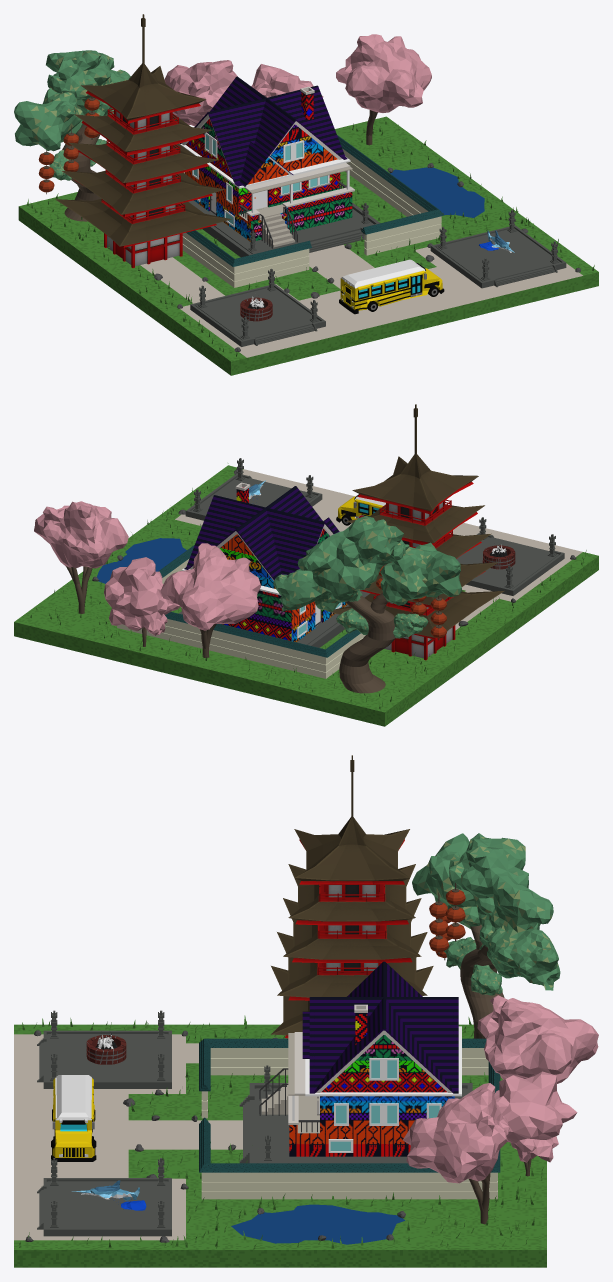
The picture shows the model from 3 angles, top to bottom: view 1: azimuth 30°, elevation 25°; view 2: azimuth 150°, elevation 25°; view 3: azimuth 270°, elevation 25°; orthographic projection. The views are drawn at different scales.
Visible parts, largest first — view 1: Cube.005, Cube.966, VEHICLES_SCHOOL_BUS, OBJRANDOM_CAMPFIRE; view 2: Cube.005, Cube.966, VEHICLES_SCHOOL_BUS, OBJRANDOM_CAMPFIRE; view 3: Cube.005, Cube.966, VEHICLES_SCHOOL_BUS, OBJRANDOM_CAMPFIRE, ANIMAL_PEZ_ESPADA.
Part boxes in pixels (bbox=[...]): Cube.005: bbox=[14, 14, 598, 375]; Cube.966: bbox=[179, 76, 354, 248]; VEHICLES_SCHOOL_BUS: bbox=[339, 259, 444, 314]; OBJRANDOM_CAMPFIRE: bbox=[240, 296, 272, 321]; Cube.005: bbox=[14, 404, 598, 726]; Cube.966: bbox=[181, 482, 347, 642]; VEHICLES_SCHOOL_BUS: bbox=[336, 494, 385, 525]; OBJRANDOM_CAMPFIRE: bbox=[482, 544, 515, 569]; Cube.005: bbox=[14, 755, 598, 1267]; Cube.966: bbox=[259, 961, 461, 1156]; VEHICLES_SCHOOL_BUS: bbox=[51, 1075, 96, 1161]; OBJRANDOM_CAMPFIRE: bbox=[86, 1033, 126, 1064]; ANIMAL_PEZ_ESPADA: bbox=[71, 1180, 146, 1210].
Size of the model in its own units: 4528 by 2791 by 4389.
Materials: 48 (9 with a texture image).
